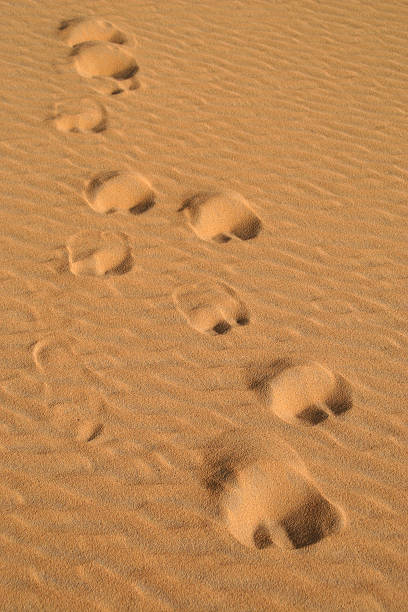animal_footprint: (202, 430, 344, 548), (32, 332, 104, 441), (248, 359, 351, 424), (179, 191, 261, 242), (173, 280, 249, 333), (66, 230, 132, 275), (85, 171, 154, 214), (71, 41, 138, 80), (32, 332, 82, 378), (51, 401, 103, 441), (50, 97, 106, 132), (58, 17, 127, 45), (92, 75, 140, 95)
